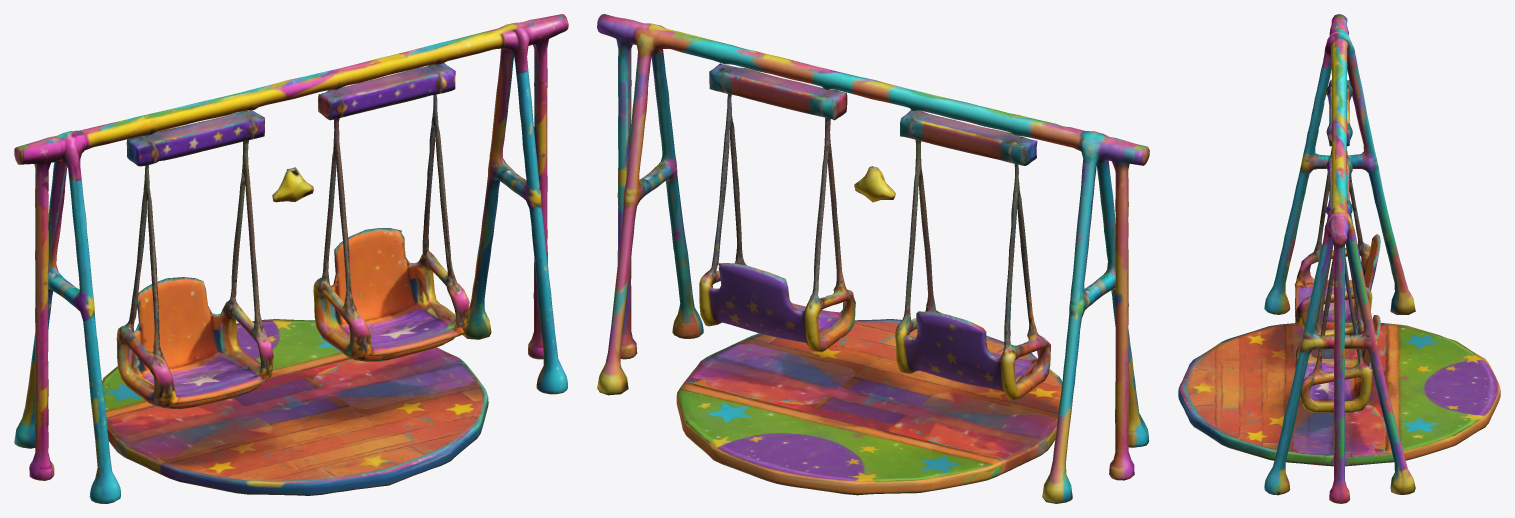
The model's file is A_cartoony_swing_set__0104005722_texture.fbx.
3 views of the same model, side by side, from view 1: azimuth 30°, elevation 25°; view 2: azimuth 150°, elevation 25°; view 3: azimuth 270°, elevation 25° (orthographic). The views are drawn at different scales.
Parts seen in each view (by area): view 1: Mesh1_Mesh1.147; view 2: Mesh1_Mesh1.147; view 3: Mesh1_Mesh1.147.
Part boxes in pixels (bbox=[...]): Mesh1_Mesh1.147: bbox=[14, 14, 568, 503]; Mesh1_Mesh1.147: bbox=[597, 14, 1149, 503]; Mesh1_Mesh1.147: bbox=[1178, 14, 1500, 503].
Bounding box in the file's own units: 200 × 118 × 124.
1 material, 1 textured.
